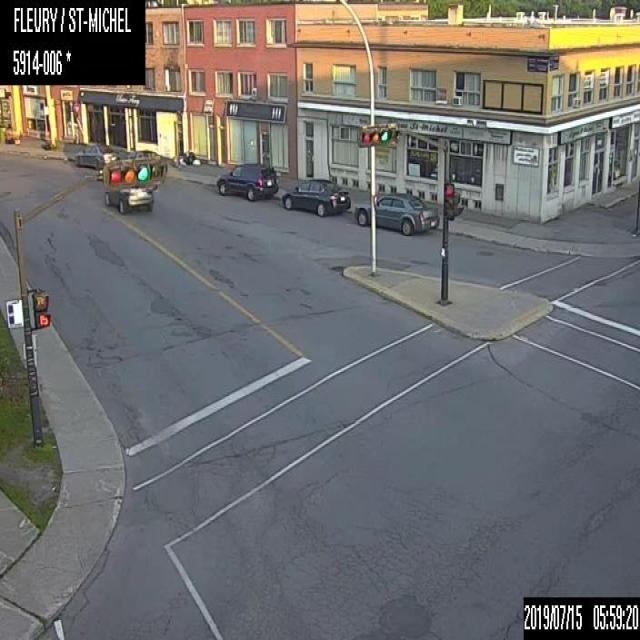vehicle: (355, 191, 437, 235), (282, 176, 350, 215), (216, 162, 278, 202), (102, 185, 154, 215), (73, 144, 119, 168)
